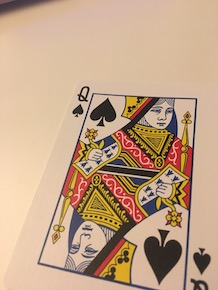QueenOfSpades: (3, 74, 218, 289)
